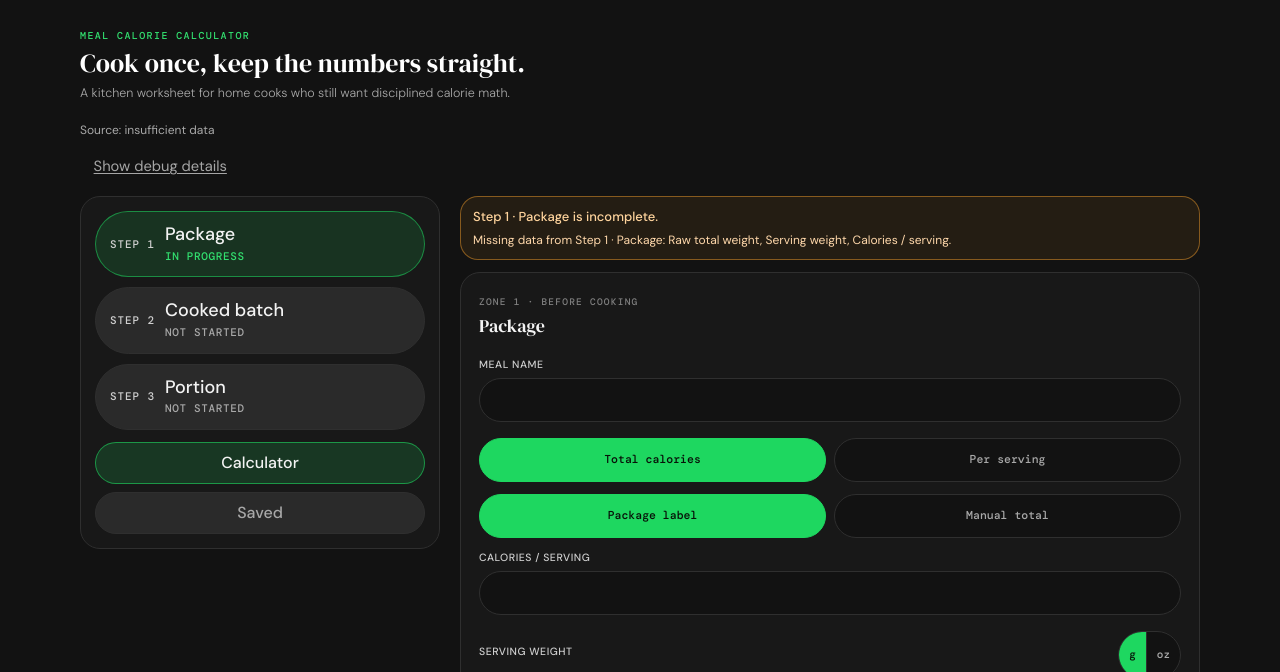
Test: ZoneLayout › renders Zone 2 cooked weight input
Click the button "Step 2 Cooked batch Not started" at point(260, 320), box top-left (95, 287), bottom-right (425, 354)
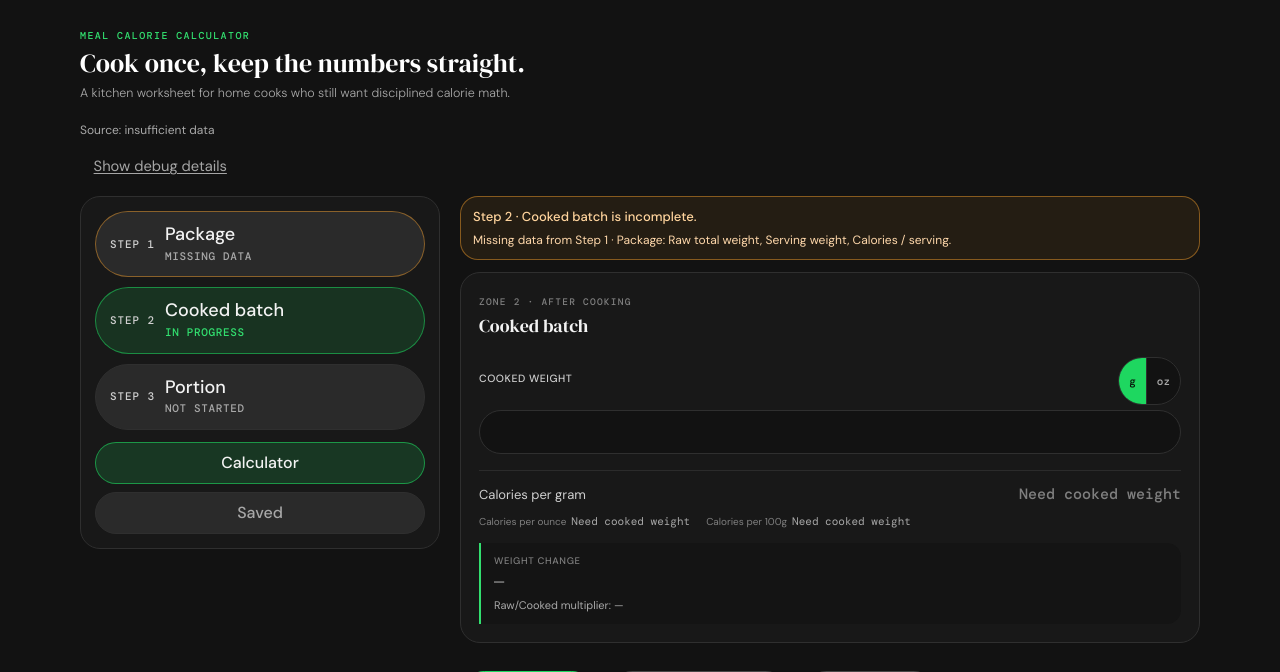
Expected: the number field labelled "Cooked weight" is shown, top-left (479, 410), bottom-right (1181, 454)
